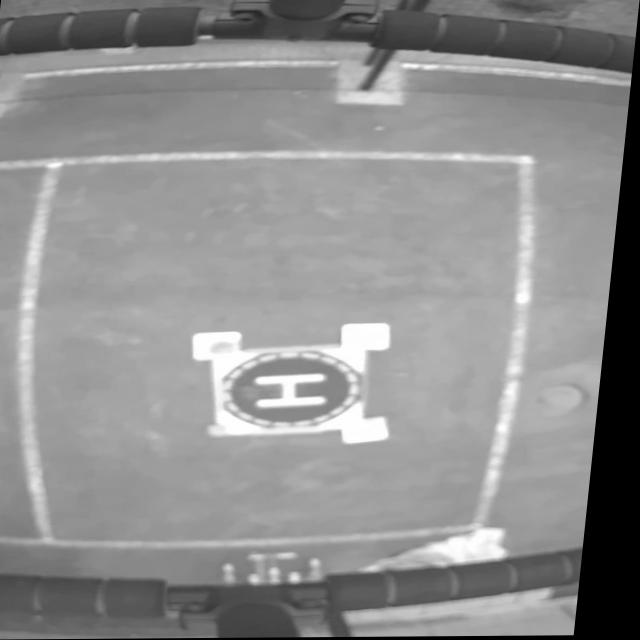Helipad: (261, 374, 334, 408)
